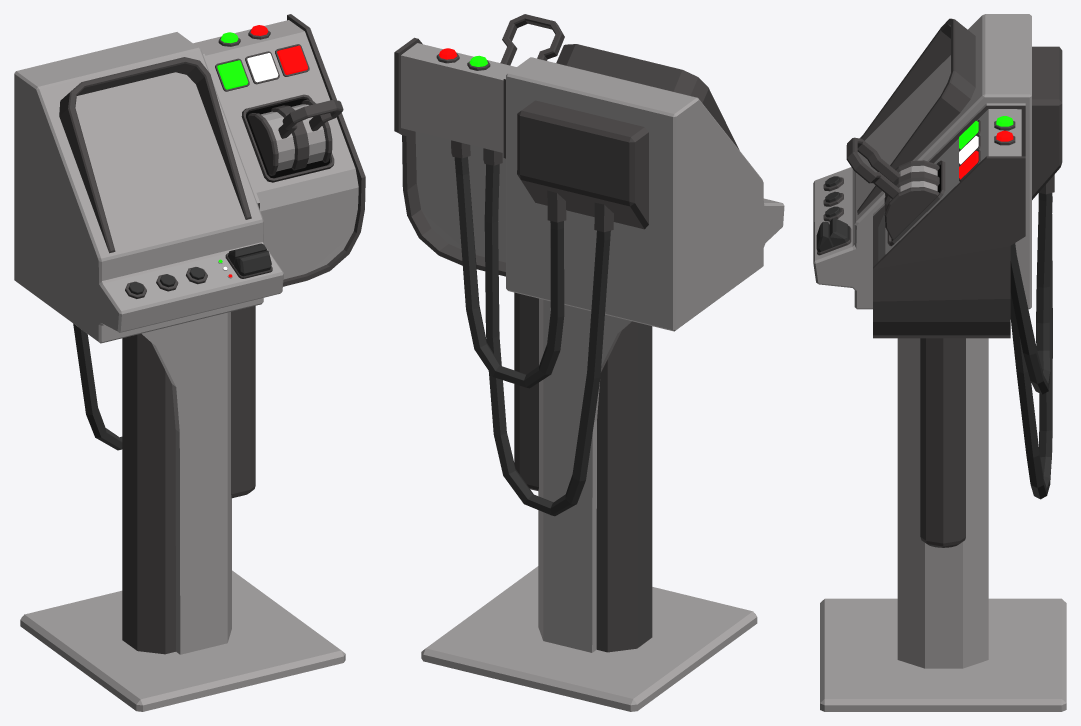
Rendered from ConsoleLarge.fbx.
The picture shows the model from 3 angles, left to right: view 1: azimuth 30°, elevation 25°; view 2: azimuth 150°, elevation 25°; view 3: azimuth 270°, elevation 25°; orthographic projection. The views are drawn at different scales.
Parts seen in each view (by area): view 1: ConsoleLarge, ConsoleLargeLever, Button4, Button5, Button6; view 2: ConsoleLarge, ConsoleLargeLever; view 3: ConsoleLarge, ConsoleLargeLever.
Boxes of the visible parts, x1=… form: ConsoleLarge: x1=14, y1=14, x2=365, y2=711; ConsoleLargeLever: x1=247, y1=100, x2=343, y2=175; Button4: x1=217, y1=60, x2=248, y2=89; Button5: x1=247, y1=53, x2=278, y2=82; Button6: x1=277, y1=45, x2=307, y2=74; ConsoleLarge: x1=394, y1=37, x2=784, y2=711; ConsoleLargeLever: x1=500, y1=14, x2=564, y2=65; ConsoleLarge: x1=813, y1=14, x2=1066, y2=711; ConsoleLargeLever: x1=846, y1=137, x2=939, y2=239.
Bounding box in the file's own units: 78.52 × 158 × 61.33.
